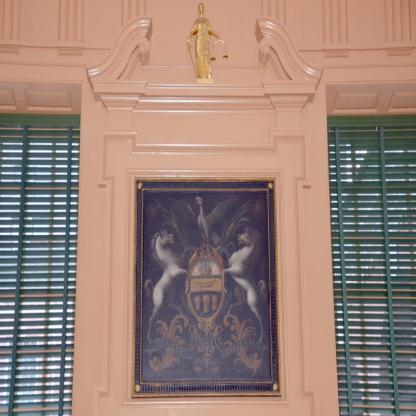Picture-frame: (131, 177, 282, 396)
